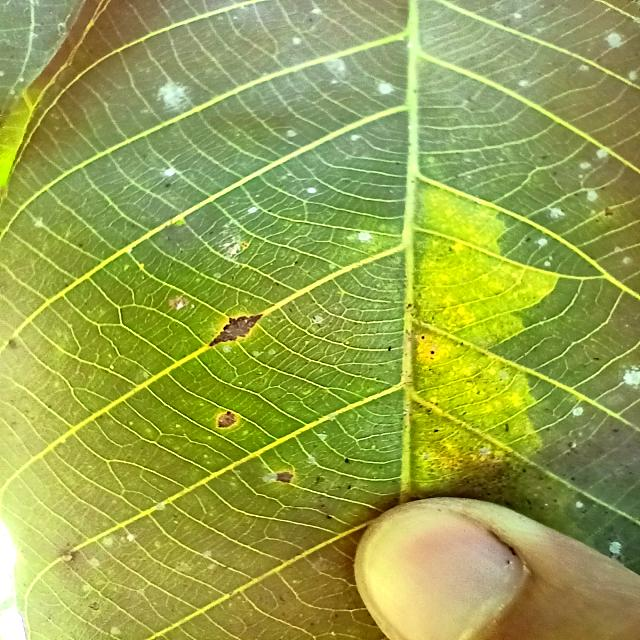Corynespora: (209, 313, 262, 347)
